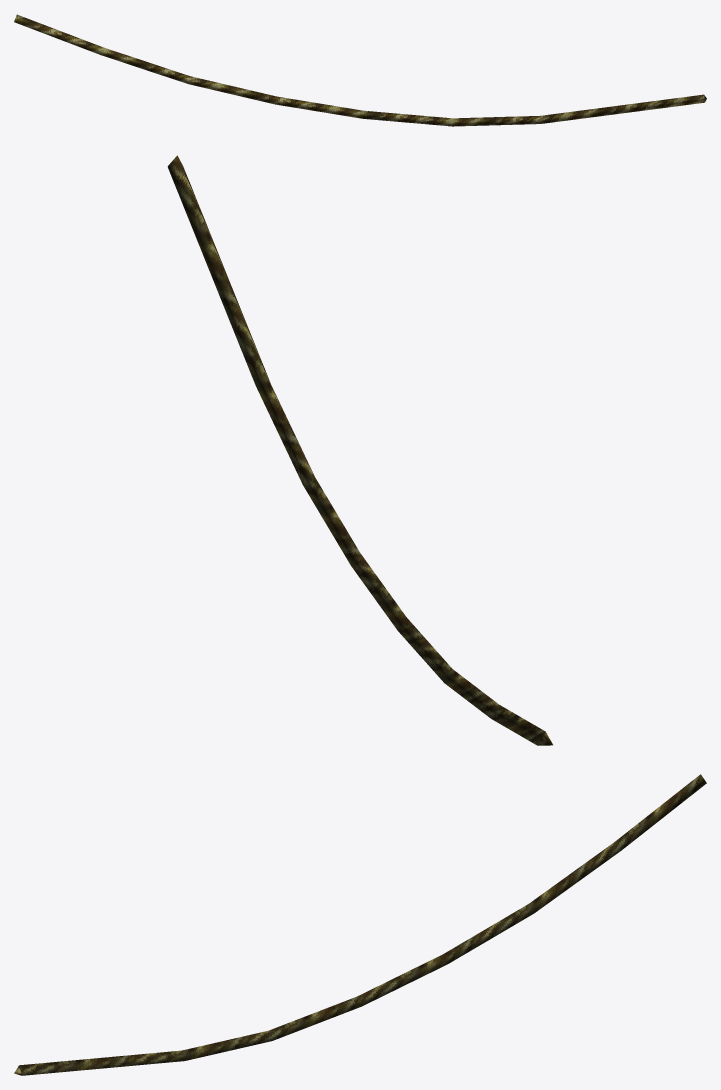
Rendered from OVERHILL_A_01_ROPE_06.fbx.
3 views of the same model, one above another, from view 1: azimuth 30°, elevation 25°; view 2: azimuth 150°, elevation 25°; view 3: azimuth 270°, elevation 25° (orthographic). The views are drawn at different scales.
Parts seen in each view (by area): view 1: OVERHILL_A_01_ROPE_06; view 2: OVERHILL_A_01_ROPE_06; view 3: OVERHILL_A_01_ROPE_06.
Boxes of the visible parts, x1,y1,x2,y2 form: OVERHILL_A_01_ROPE_06: (14,14,706,126); OVERHILL_A_01_ROPE_06: (167,155,552,745); OVERHILL_A_01_ROPE_06: (14,774,706,1075).
Bounding box in the file's own units: 30256 × 4156 × 30256.
1 material, 1 textured.
